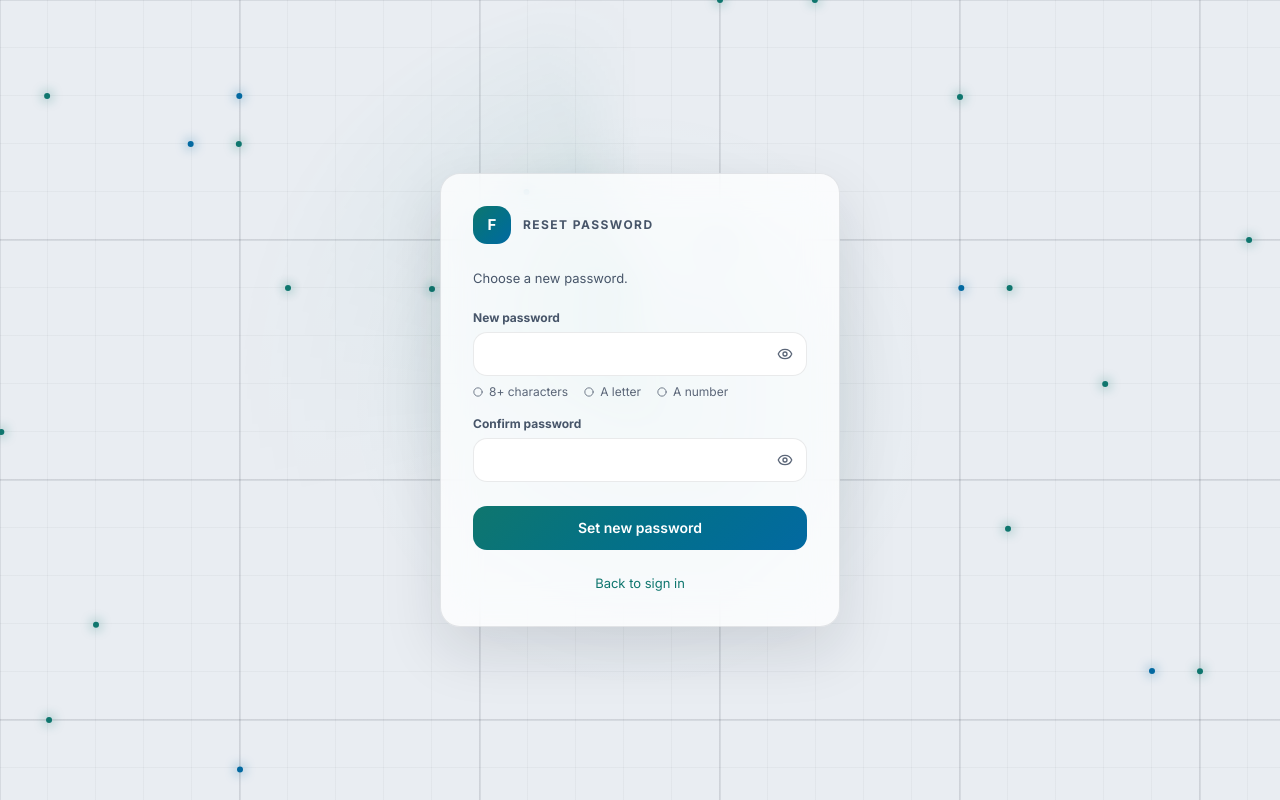
Test: F02-T4: reset password › 410 → expired state with "Request a new link"
This screenshot has width=1280, height=800.
In the password field labelled "New password": {"x": 640, "y": 354} [473, 332, 807, 376], type "abcd1234"
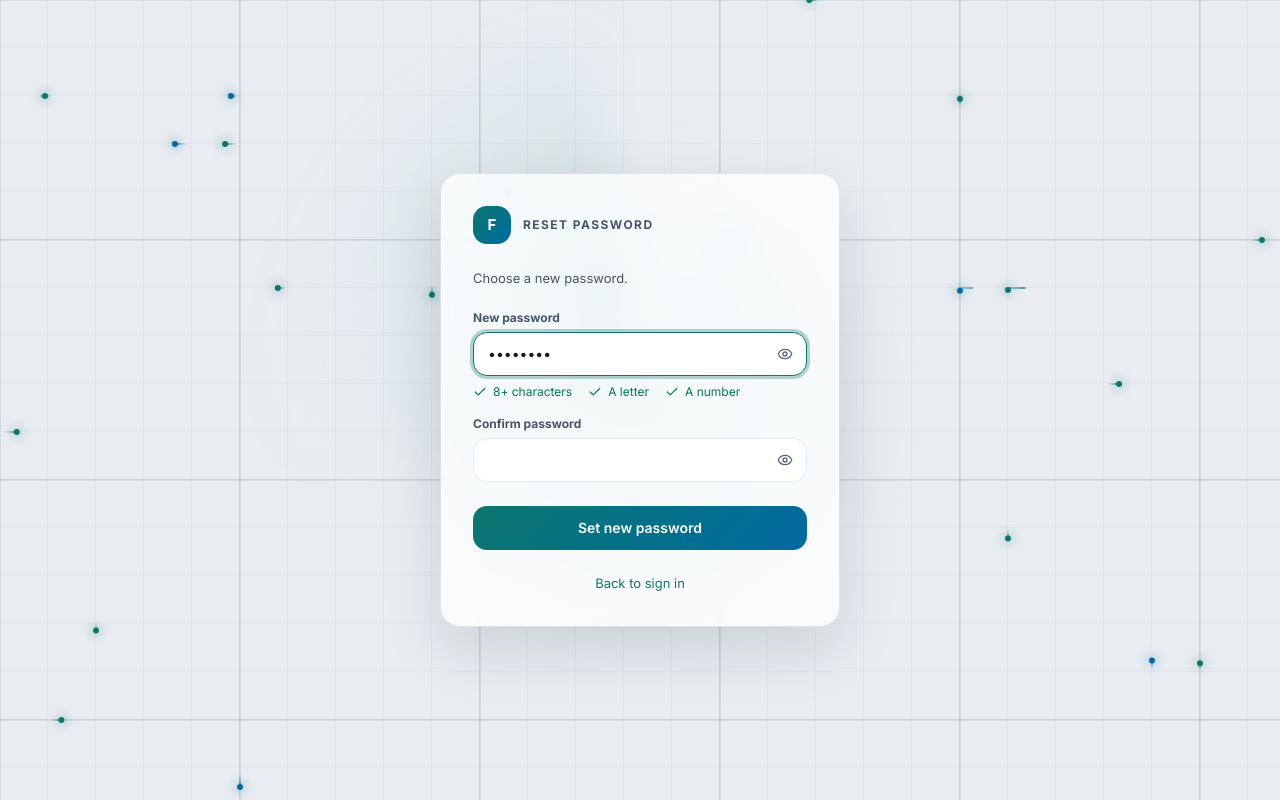
In the password field labelled "Confirm password": {"x": 640, "y": 460} [473, 438, 807, 482], type "abcd1234"
Then press Enter
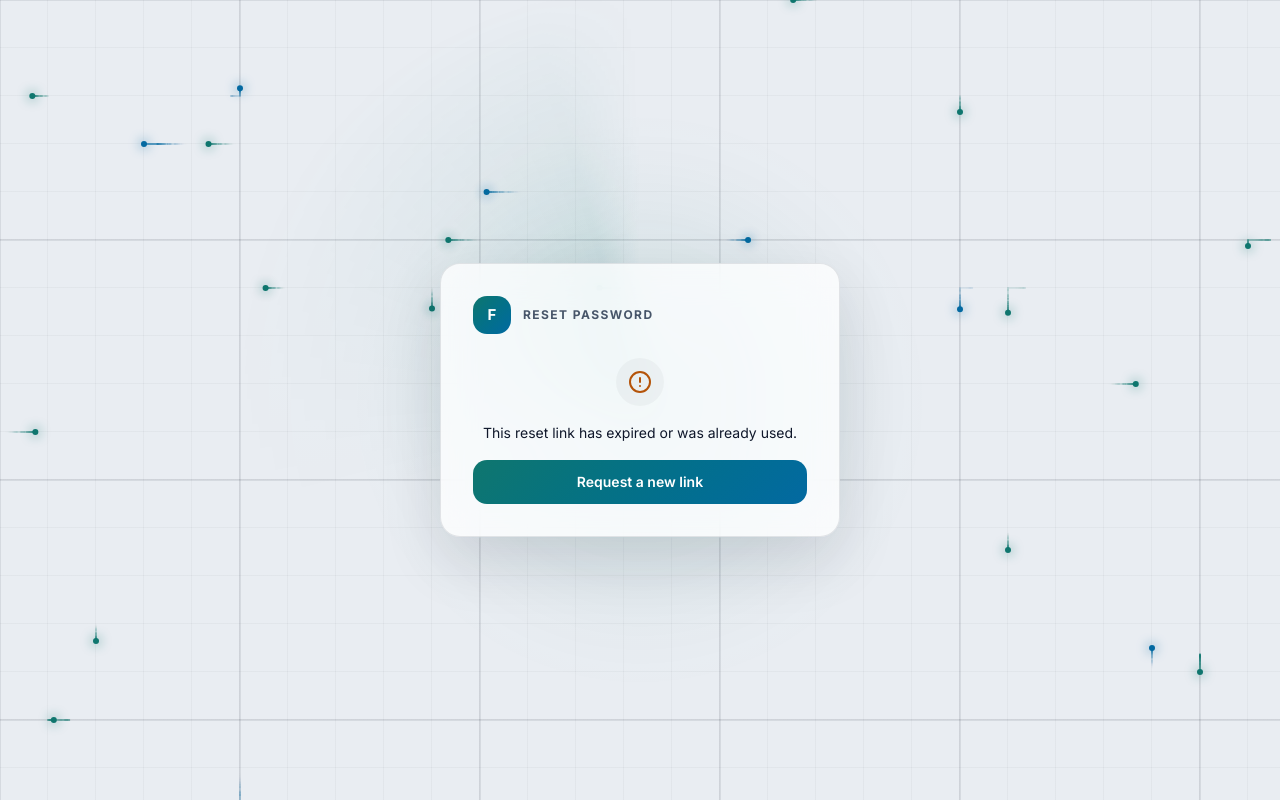
Check: the message reads "This reset link has expired or was already used.", box [483, 424, 797, 441]
